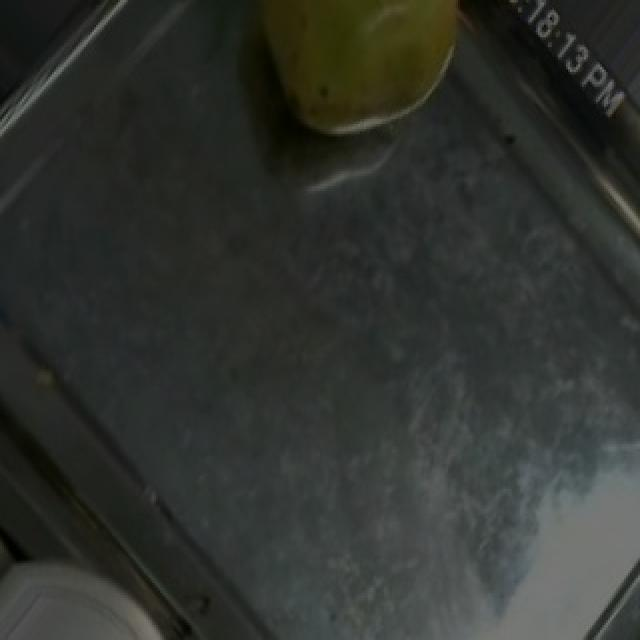fruit: (240, 0, 492, 164)
